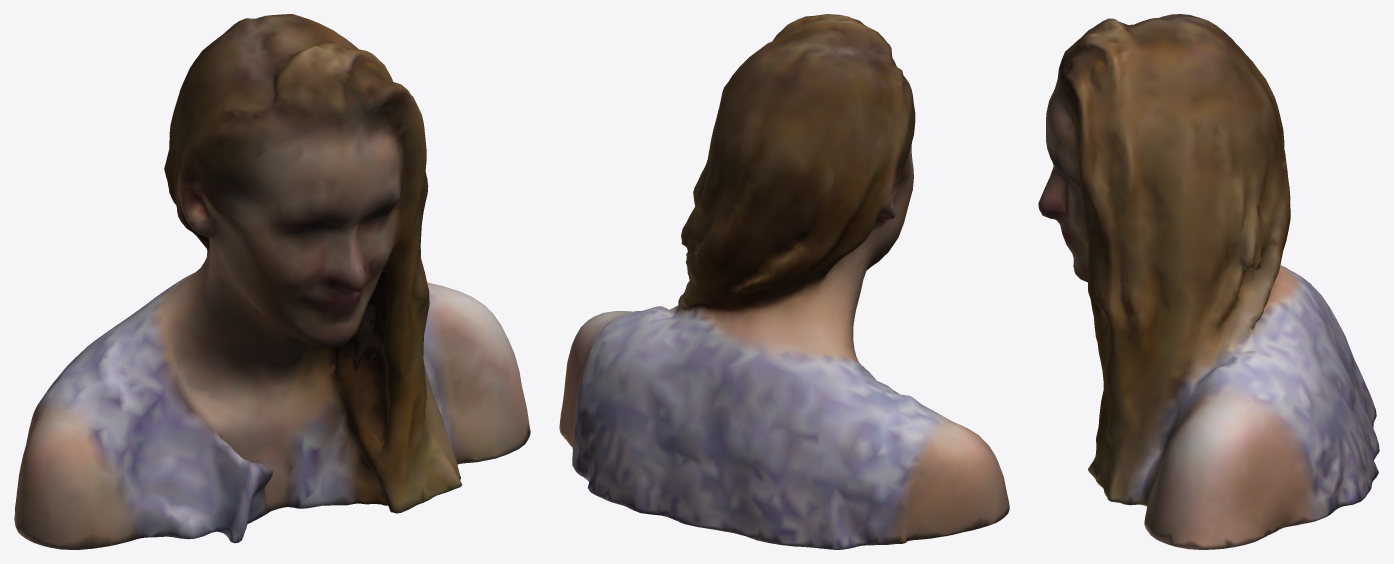
The model's file is TEXTURED_Kielbowska_Kamilla.obj.
The picture shows the model from 3 angles, left to right: view 1: azimuth 30°, elevation 25°; view 2: azimuth 150°, elevation 25°; view 3: azimuth 270°, elevation 25°; orthographic projection. The views are drawn at different scales.
Bounding box in the file's own units: 45.37 × 41.27 × 30.74.
